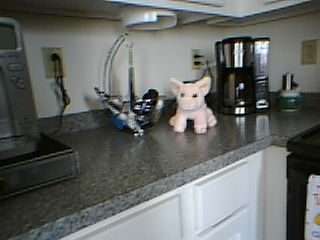piggy: (167, 75, 218, 135)
